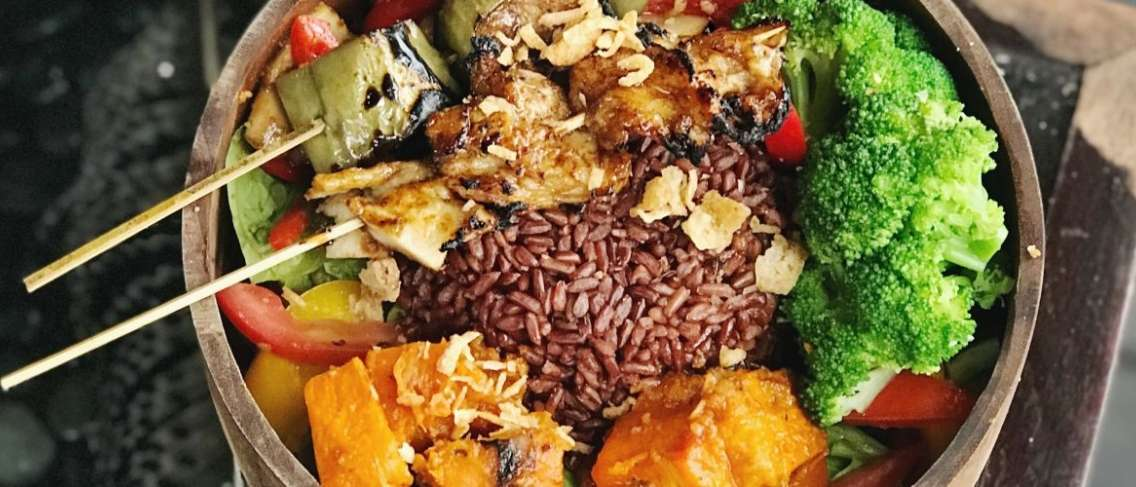Nasi Merah: (318, 105, 828, 435)
